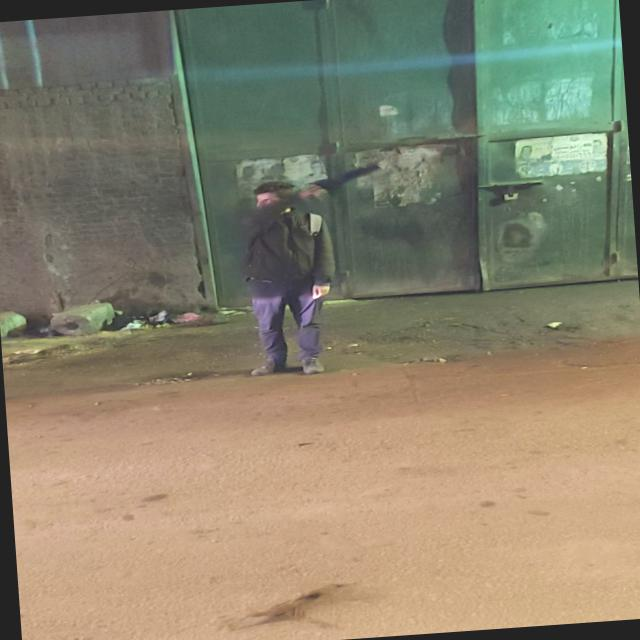long weapon: (284, 152, 382, 205)
